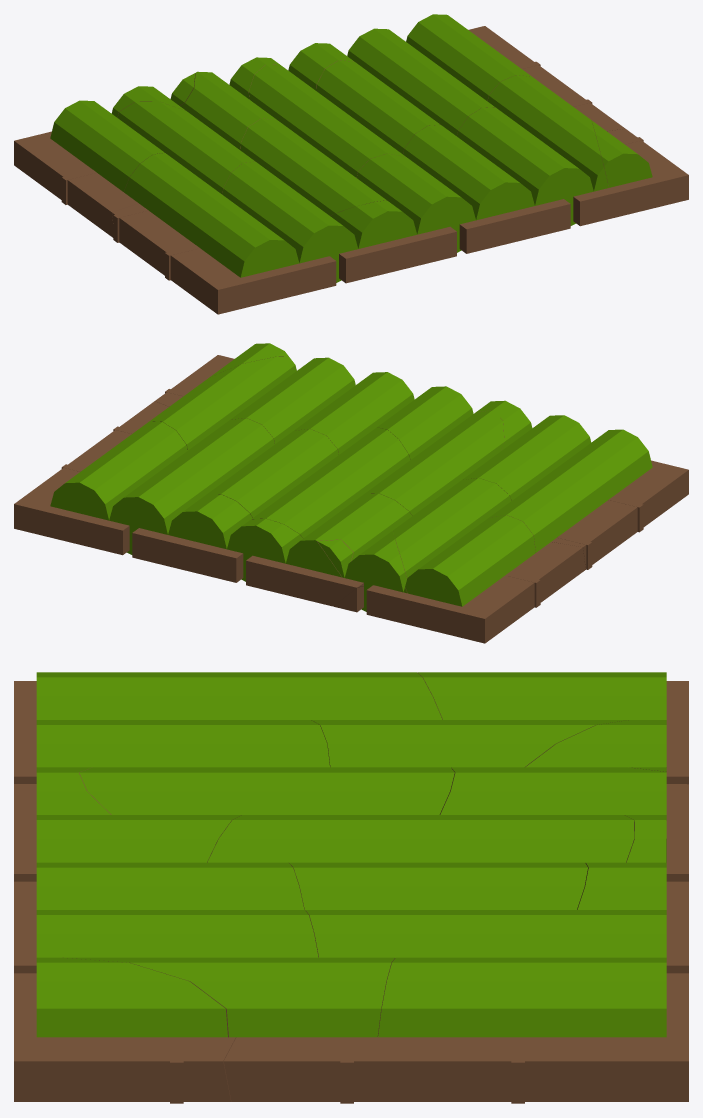
The model's file is Field_Broken.fbx.
The picture shows the model from 3 angles, top to bottom: view 1: azimuth 30°, elevation 25°; view 2: azimuth 150°, elevation 25°; view 3: azimuth 270°, elevation 25°; orthographic projection. The views are drawn at different scales.
Visible parts, largest first — view 1: Field_cell.001, Field.007_cell, Field.002_cell.002, Field.003_cell, Field.001_cell, Field.001_cell.001, Field.004_cell, Field.005_cell.001, Field.006_cell, Field.003_cell.002, Field_cell, Field.007_cell.002 (+10 smaller); view 2: Field_cell.002, Field_cell, Field.007_cell, Field.001_cell, Field_cell.001, Field.002_cell.002, Field.007_cell.002, Field.006_cell.001, Field.004_cell, Field.006_cell, Field.003_cell.002, Field.005_cell (+11 smaller); view 3: Field_cell.002, Field.006_cell.001, Field_cell.001, Field.002_cell.002, Field.007_cell, Field.004_cell, Field.001_cell, Field.006_cell, Field.003_cell, Field.005_cell, Field.001_cell.001, Field.006_cell.002 (+10 smaller).
Part boxes in pixels (box(x1,y1,x2,y2)): Field_cell.001: box(112, 129, 688, 314); Field.007_cell: box(124, 153, 299, 277); Field.002_cell.002: box(249, 64, 405, 177); Field.003_cell: box(222, 161, 358, 282); Field.001_cell: box(347, 28, 494, 136); Field.001_cell.001: box(457, 107, 593, 225); Field.004_cell: box(240, 118, 386, 215); Field.005_cell.001: box(403, 125, 534, 220); Field.006_cell: box(487, 75, 608, 191); Field.003_cell.002: box(118, 101, 254, 194); Field_cell: box(14, 131, 138, 237); Field.007_cell.002: box(50, 100, 164, 191); Field_cell.002: box(14, 401, 403, 606); Field_cell: box(333, 542, 585, 643); Field.007_cell: box(489, 429, 652, 552); Field.001_cell: box(109, 418, 274, 554); Field_cell.001: box(155, 355, 688, 569); Field.002_cell.002: box(251, 427, 410, 538); Field.007_cell.002: box(405, 515, 535, 606); Field.006_cell.001: box(50, 421, 187, 520); Field.004_cell: box(366, 410, 504, 515); Field.006_cell: box(150, 356, 296, 450); Field.003_cell.002: box(393, 478, 511, 577); Field.005_cell: box(207, 429, 338, 517); Field_cell.002: box(223, 784, 688, 1103); Field.006_cell.001: box(378, 957, 666, 1037); Field_cell.001: box(14, 681, 235, 1103); Field.002_cell.002: box(207, 815, 634, 862); Field.007_cell: box(36, 672, 442, 719); Field.004_cell: box(79, 767, 454, 814); Field.001_cell: box(305, 910, 666, 957); Field.006_cell: box(63, 957, 395, 1037); Field.003_cell: box(36, 720, 329, 767); Field.005_cell: box(289, 862, 587, 909); Field.001_cell.001: box(36, 910, 318, 957); Field.006_cell.002: box(36, 957, 227, 1037).
Size of the model in its own units: 4.03 by 0.5 by 3.
